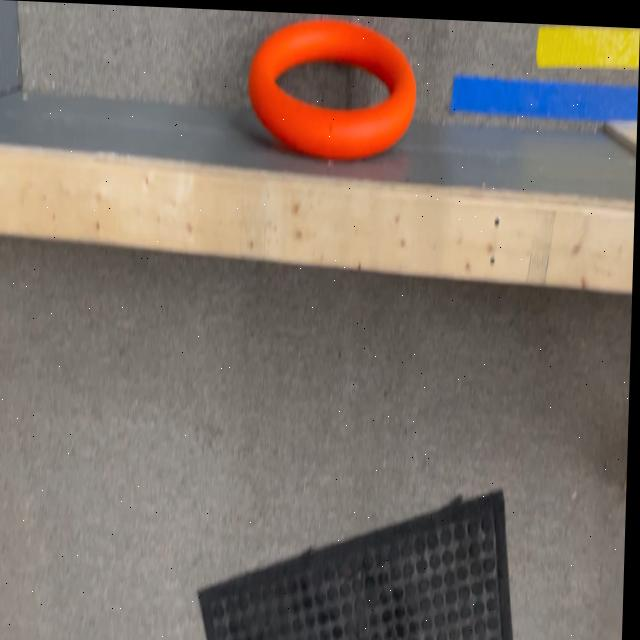note: (245, 12, 417, 151)
